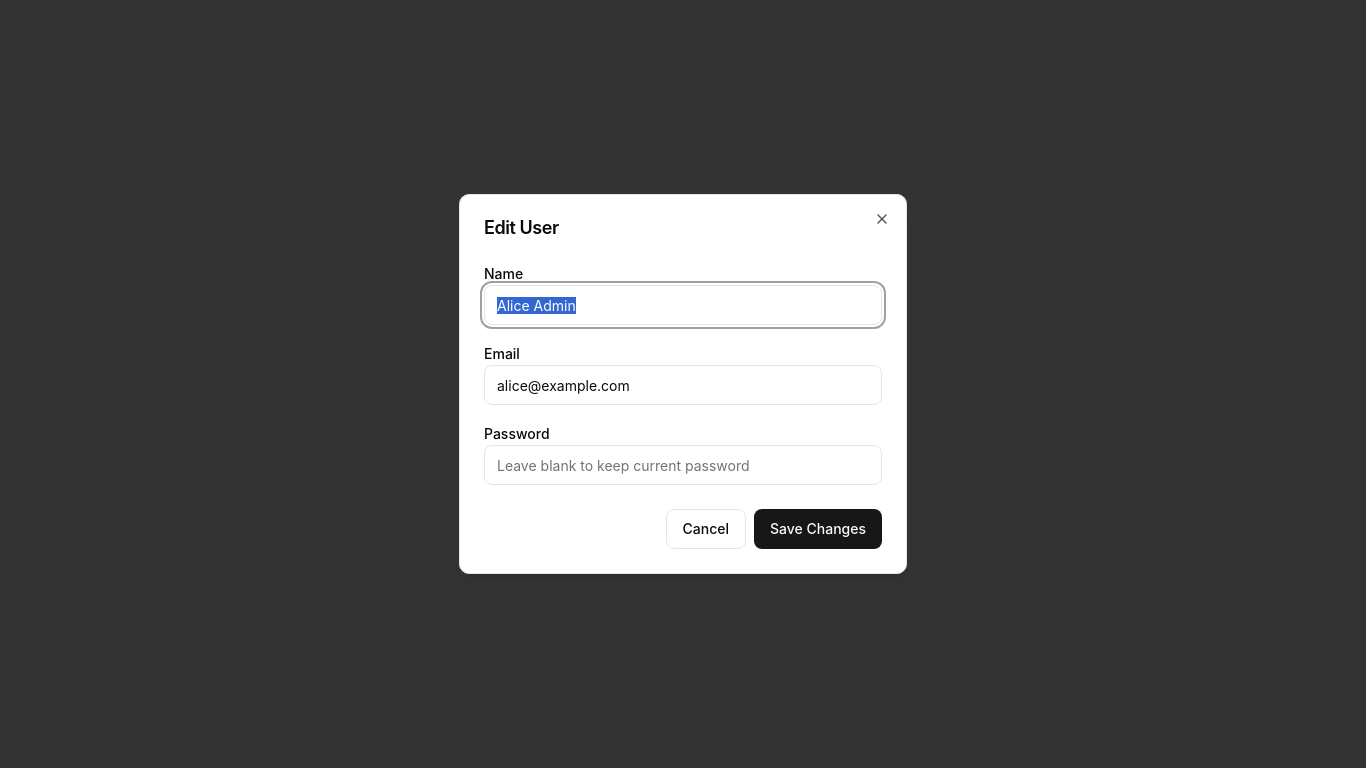
Test: EditUserModal form › shows a validation error when password is too short
The width and height of the screenshot is (1366, 768).
In the password field labelled "Password": (683, 465) [484,445,882,485], type "short"
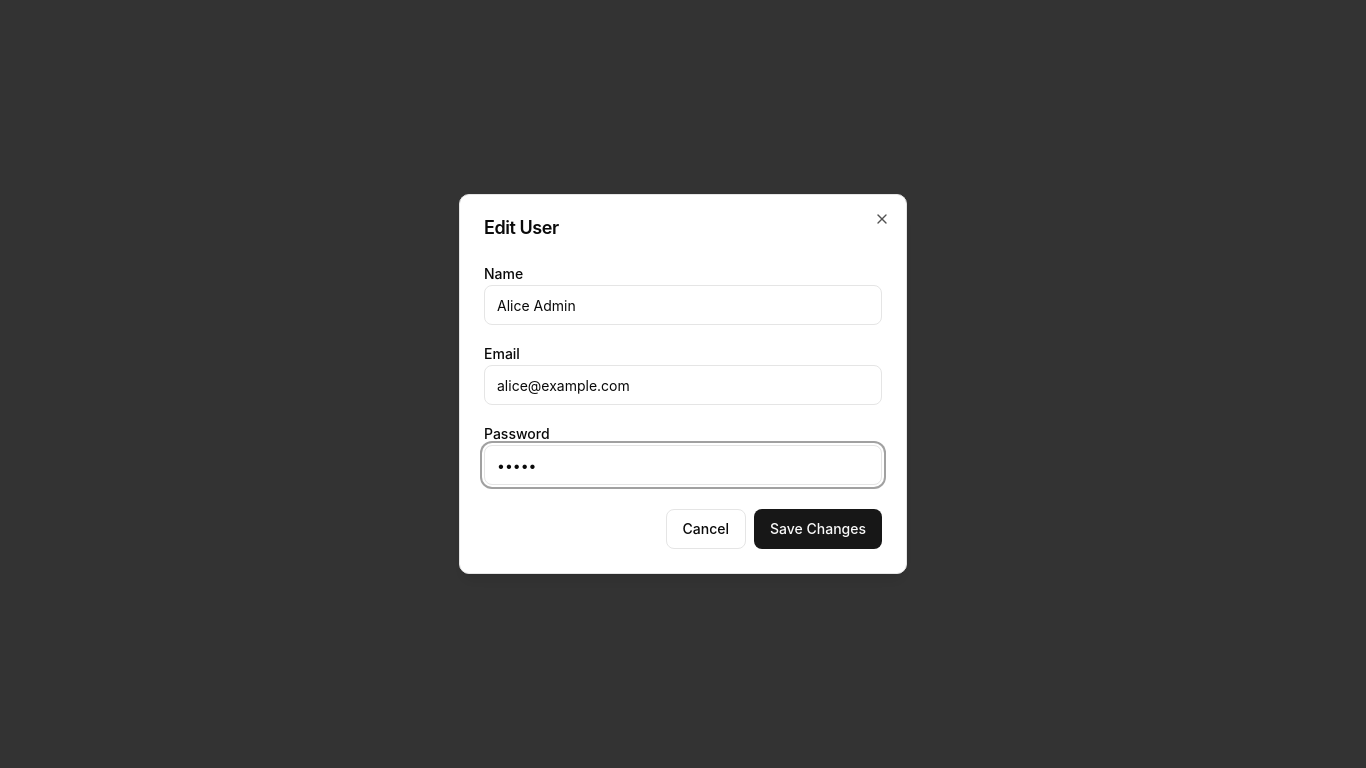
Click the button "Save Changes": (818, 529) [754,509,882,549]
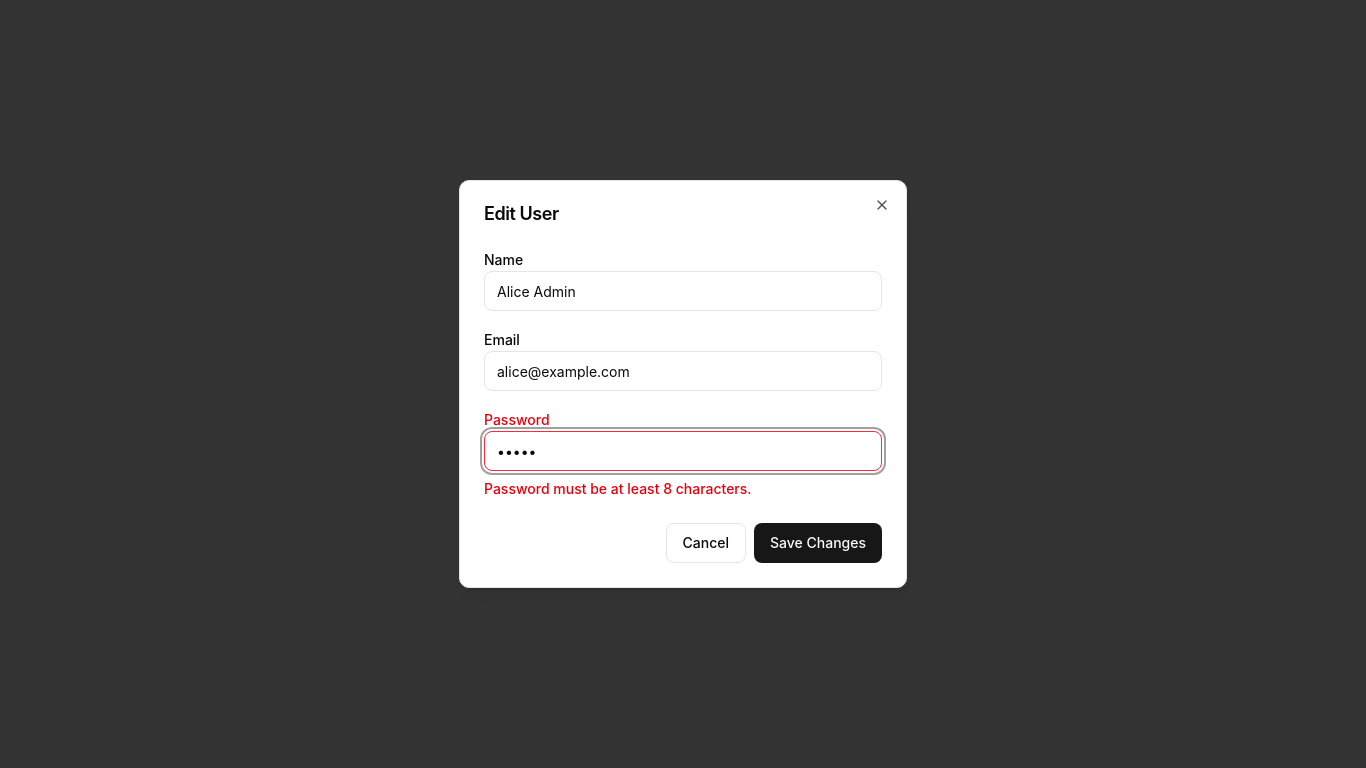
Expected: the text "Password must be at least 8 characters." is shown, [484,480,752,497]
